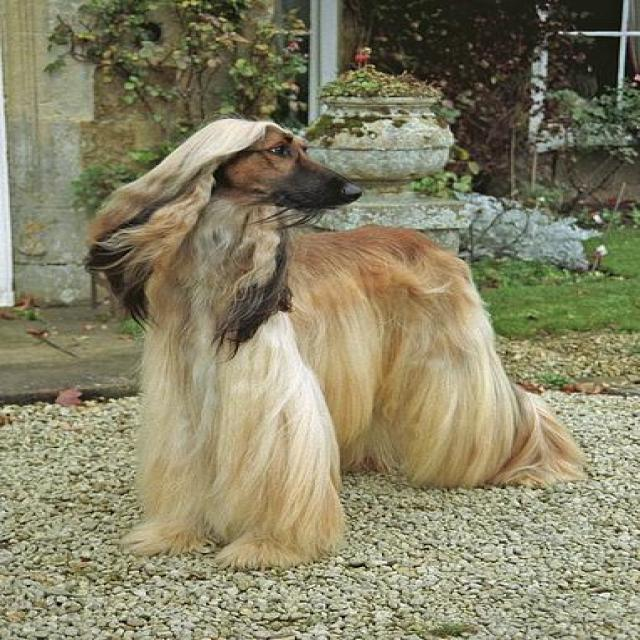afghan_hound: (78, 116, 584, 566)
